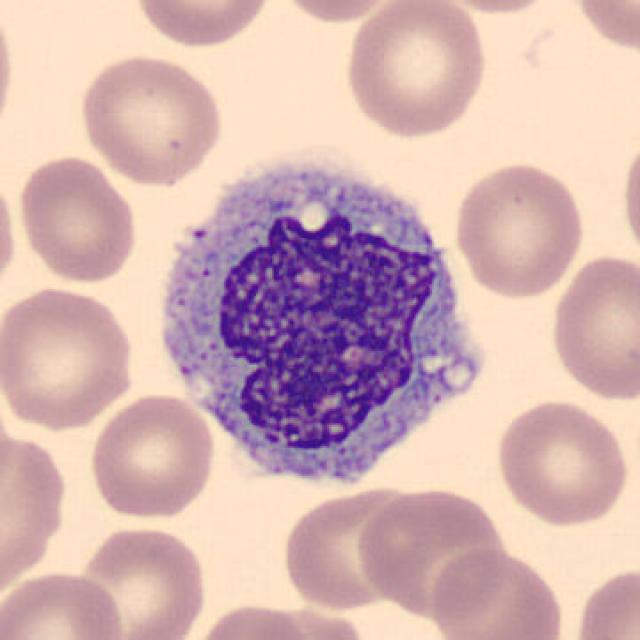Monocyte: (142, 138, 487, 500)
RBC: (354, 483, 512, 621), (340, 0, 490, 141), (74, 51, 226, 189), (0, 282, 139, 432), (450, 157, 588, 301), (277, 483, 425, 614), (491, 395, 633, 529), (85, 391, 219, 522), (15, 152, 140, 286), (70, 522, 212, 638), (546, 250, 638, 404), (428, 545, 569, 640), (0, 418, 71, 605), (0, 566, 126, 640), (129, 0, 277, 49), (569, 562, 638, 640), (186, 599, 314, 640), (565, 0, 639, 56), (270, 0, 407, 26), (617, 129, 640, 266), (0, 162, 21, 303), (0, 2, 20, 148), (423, 0, 567, 16)
